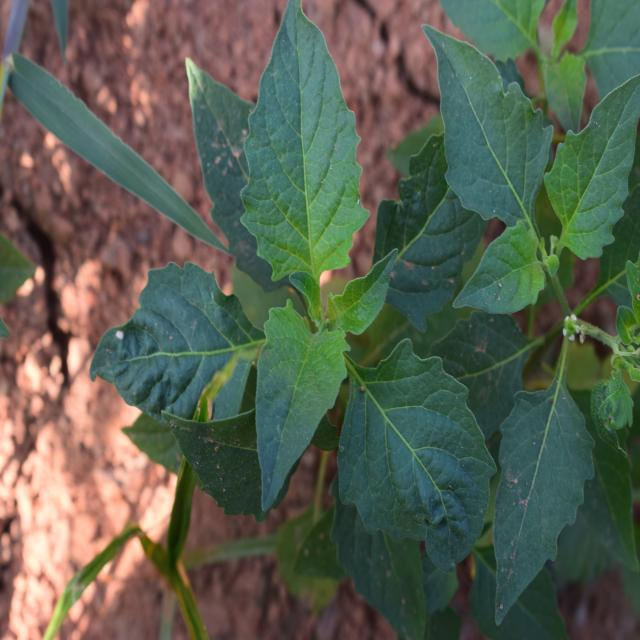Black_nightshade: (165, 42, 478, 561), (460, 49, 637, 587)
